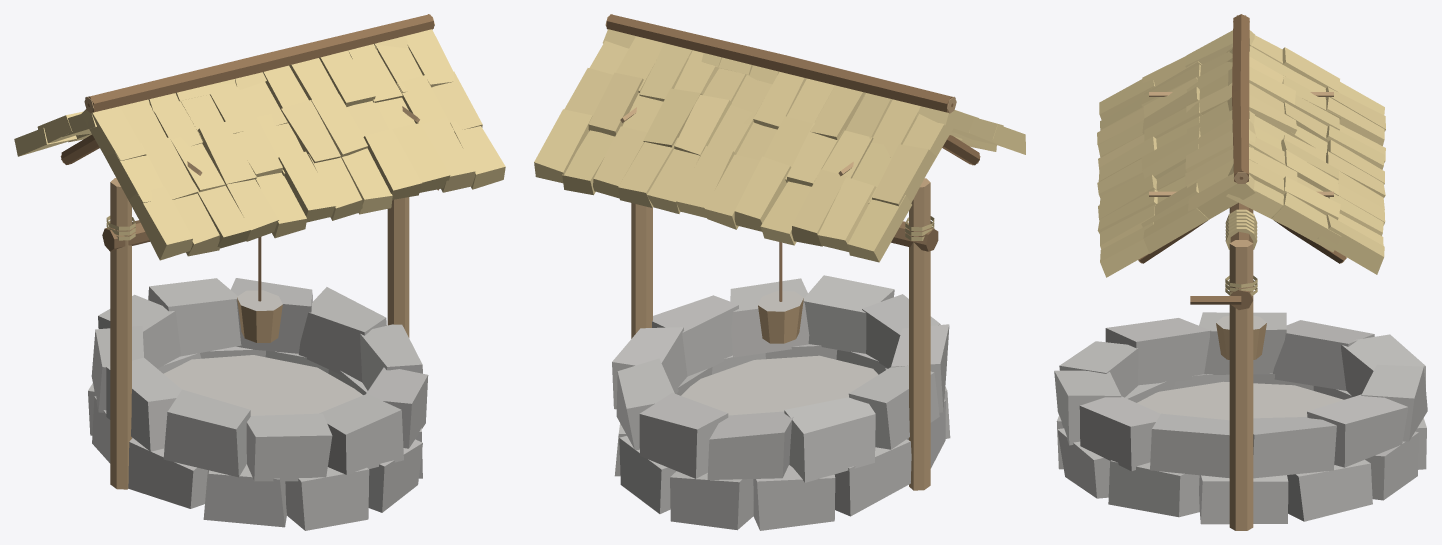
Rendered from building_well_half.glb.
3 views of the same model, side by side, from view 1: azimuth 30°, elevation 25°; view 2: azimuth 150°, elevation 25°; view 3: azimuth 270°, elevation 25° (orthographic). The views are drawn at different scales.
Visible parts, largest first — view 1: building_well_half; view 2: building_well_half; view 3: building_well_half.
Boxes of the visible parts, <box> form: building_well_half: <box>14,14,505,530</box>; building_well_half: <box>534,14,1025,530</box>; building_well_half: <box>1054,14,1427,530</box>.
Bounding box in the file's own units: 1 × 1.1 × 1.
